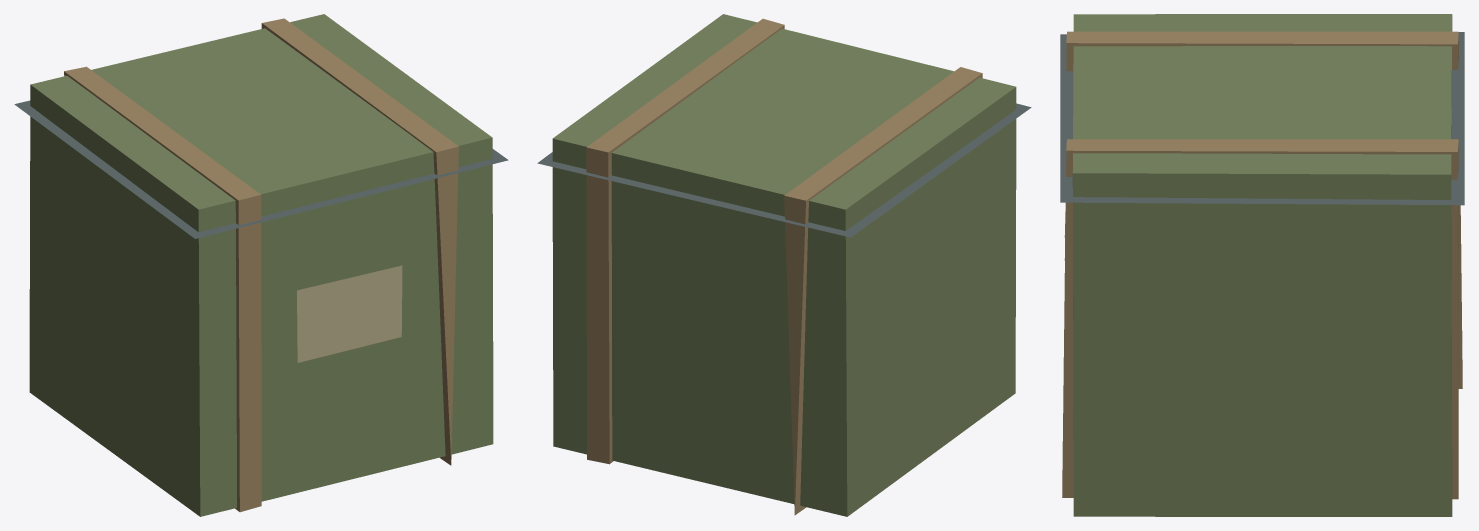
File: crate_low.glb
3 renders of one model, left to right at view 1: azimuth 30°, elevation 25°; view 2: azimuth 150°, elevation 25°; view 3: azimuth 270°, elevation 25°, orthographic. The views are drawn at different scales.
Visible parts, largest first — view 1: crate.001; view 2: crate.001; view 3: crate.001.
Boxes of the visible parts, x1,y1,x2,y2 form: crate.001: [14, 14, 508, 516]; crate.001: [537, 14, 1031, 516]; crate.001: [1060, 14, 1464, 516].
Bounding box in the file's own units: 1.26 × 1.21 × 1.26.
